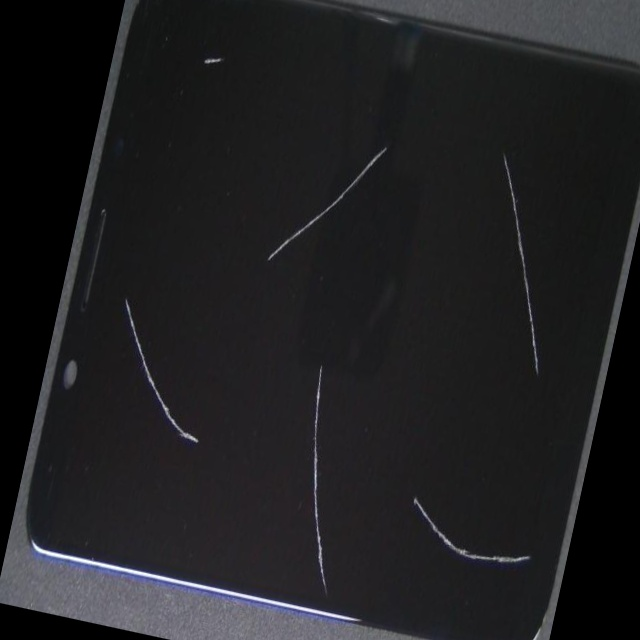scratch: (165, 103, 512, 581), (109, 195, 325, 640), (276, 0, 523, 305), (182, 0, 302, 118)
